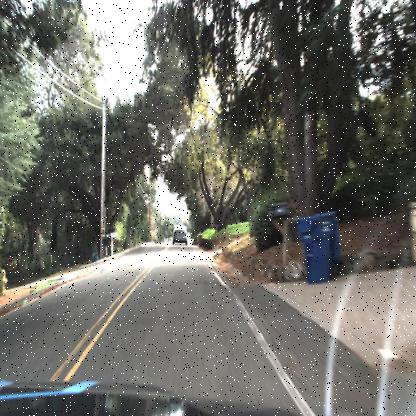car: (170, 222, 191, 252)
